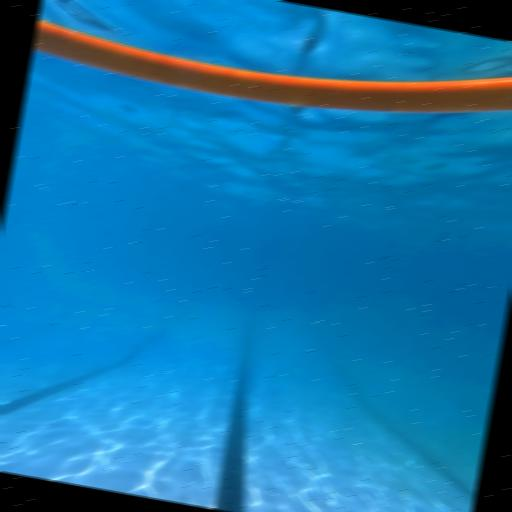upper_gate: (29, 0, 512, 150)
